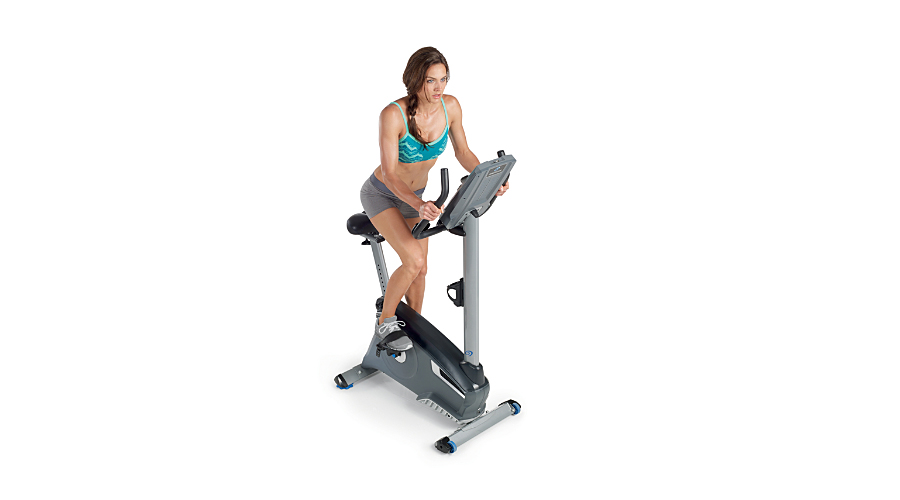gym_bike: (320, 151, 535, 460)
